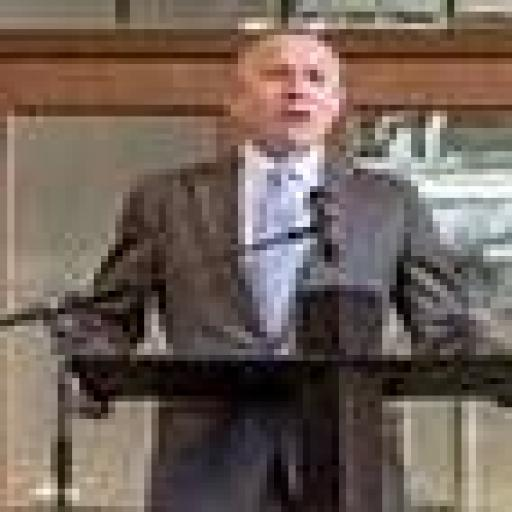person: (87, 30, 483, 354)
